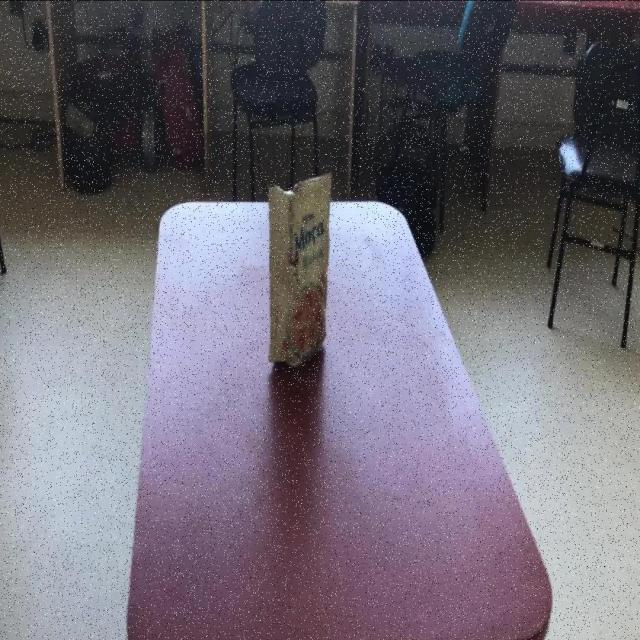CornFlakes: (125, 188, 551, 640), (266, 172, 332, 368)
